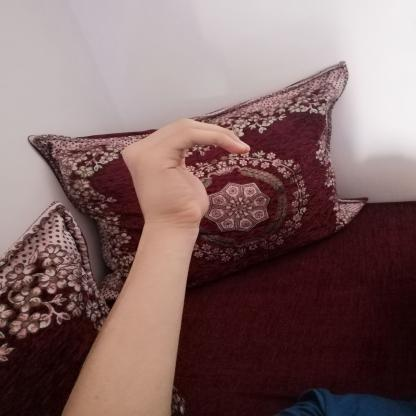HAA: (107, 108, 262, 236)
